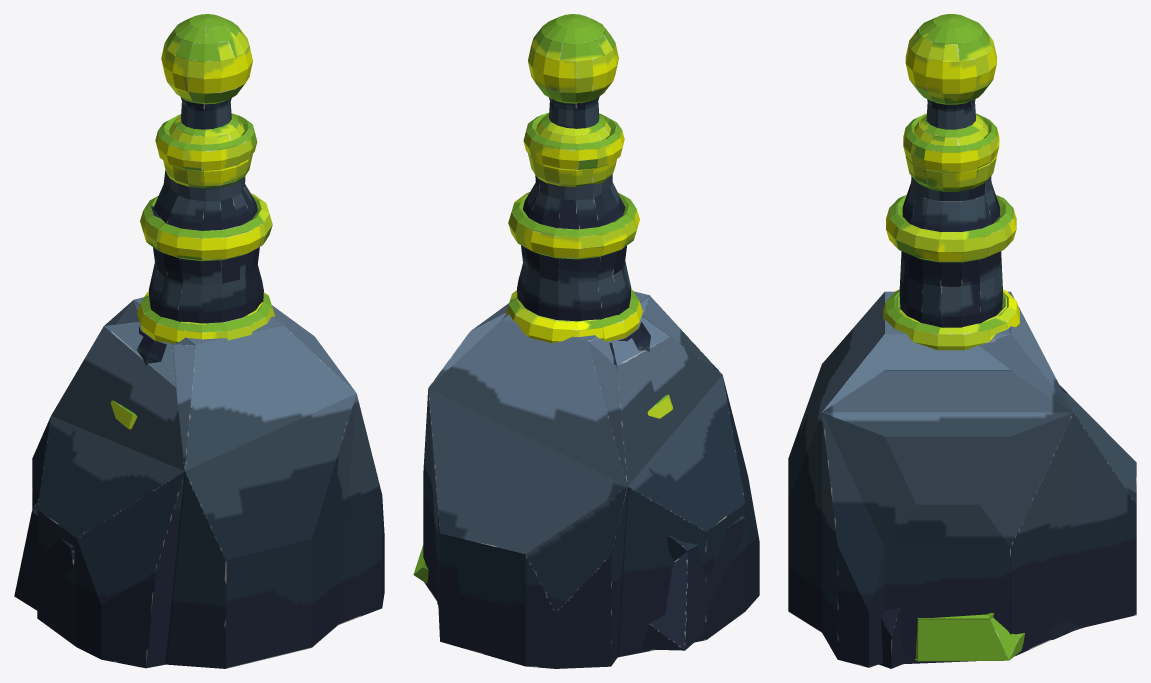
Rendered from acid_models.fbx.
3 renders of one model, left to right at view 1: azimuth 30°, elevation 25°; view 2: azimuth 150°, elevation 25°; view 3: azimuth 270°, elevation 25°, orthographic.
Visible parts, largest first — view 1: 3_boulder_large, 3_techno_build__b_large, 3_techno_build_large, 3_boulder_medium; view 2: 3_boulder_large, 3_techno_build__b_large, 3_boulder_medium, 3_techno_build_large; view 3: 3_boulder_large, 3_techno_build__b_large, 3_techno_build__b_medium, 3_techno_build_large.
Boxes of the visible parts, x1,y1,x2,y2 form: 3_boulder_large: (32, 297, 384, 668); 3_techno_build__b_large: (110, 14, 275, 429); 3_techno_build_large: (163, 114, 262, 329); 3_boulder_medium: (14, 498, 74, 610); 3_boulder_large: (423, 291, 759, 668); 3_techno_build__b_large: (505, 14, 672, 418); 3_boulder_medium: (437, 487, 744, 650); 3_techno_build_large: (518, 113, 616, 322); 3_boulder_large: (788, 291, 1136, 667); 3_techno_build__b_large: (879, 14, 1019, 668); 3_techno_build__b_medium: (915, 613, 1024, 661); 3_techno_build_large: (895, 115, 1006, 322).
Size of the model in its own units: 0.9652 by 1.85 by 0.9912.
9 materials, 9 textured.
